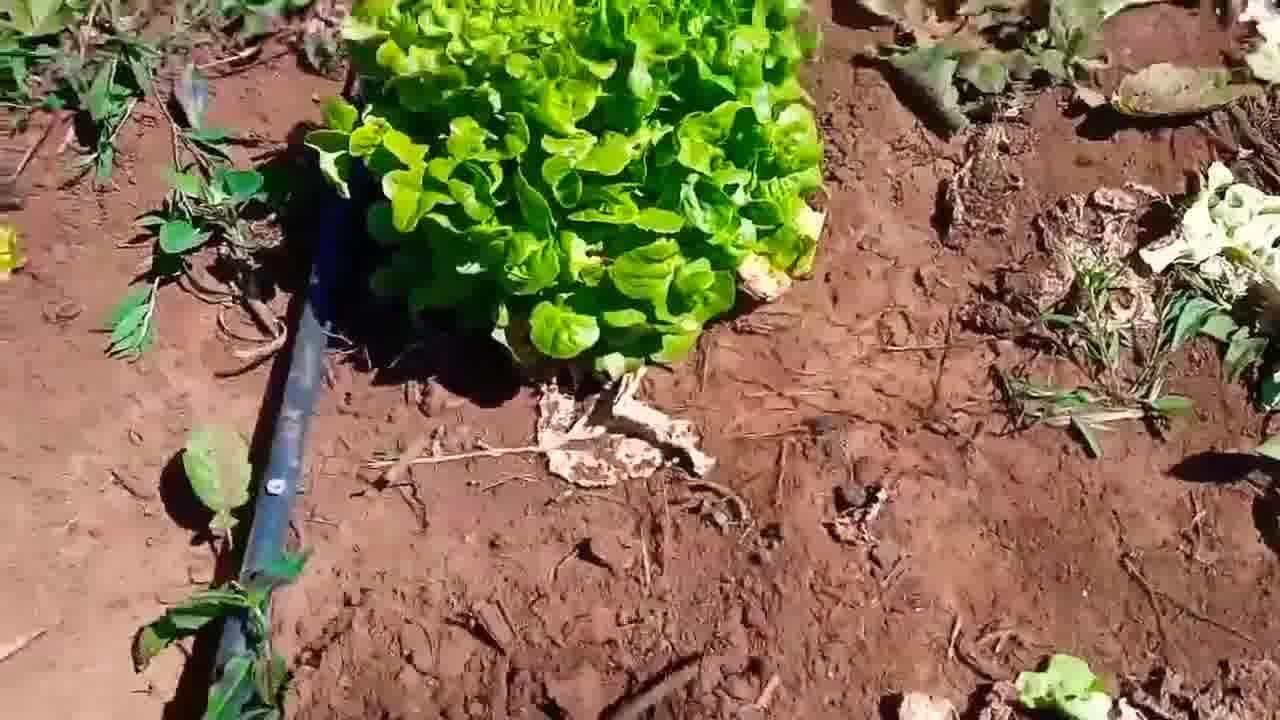Healthy: (317, 0, 835, 387)
